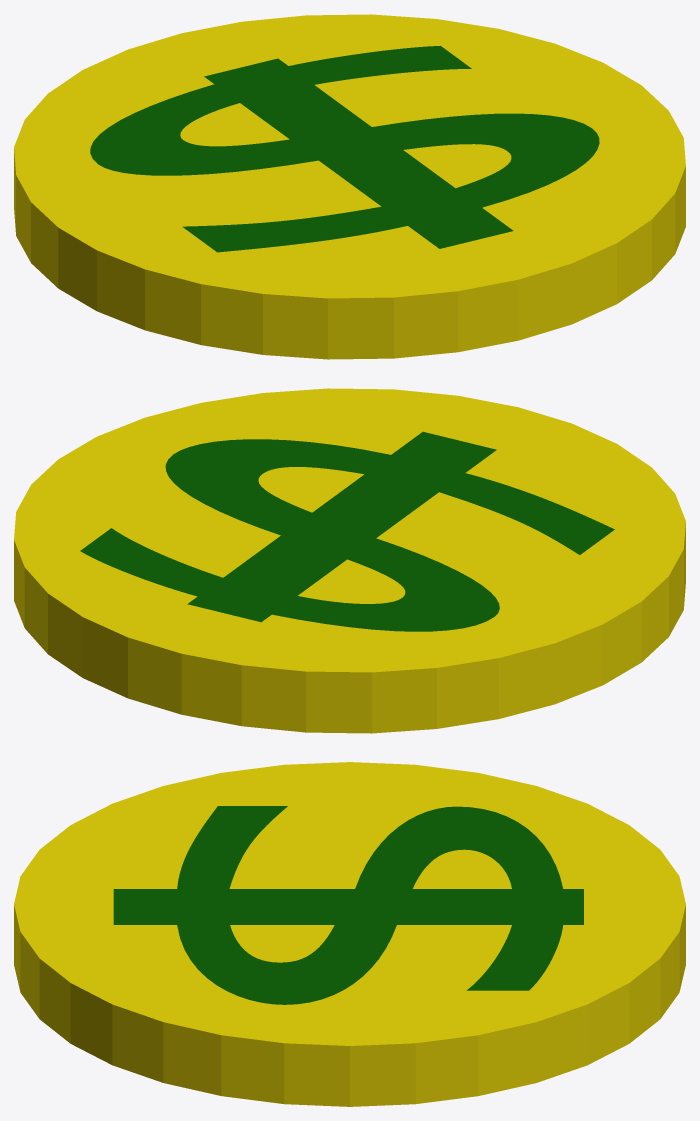
File: coin.glb
3 views of the same model, one above another, from view 1: azimuth 30°, elevation 25°; view 2: azimuth 150°, elevation 25°; view 3: azimuth 270°, elevation 25° (orthographic).
Visible parts, largest first — view 1: Cylinder, Text; view 2: Cylinder, Text; view 3: Cylinder, Text.
Boxes of the visible parts, left/top/right/bottom form: Cylinder: left=14, top=14, right=685, bottom=359; Text: left=90, top=45, right=599, bottom=252; Cylinder: left=14, top=388, right=685, bottom=733; Text: left=80, top=431, right=614, bottom=631; Cylinder: left=14, top=762, right=685, bottom=1106; Text: left=113, top=806, right=583, bottom=1004.
Size of the model in its own units: 0.1 by 0.0103 by 0.1.
